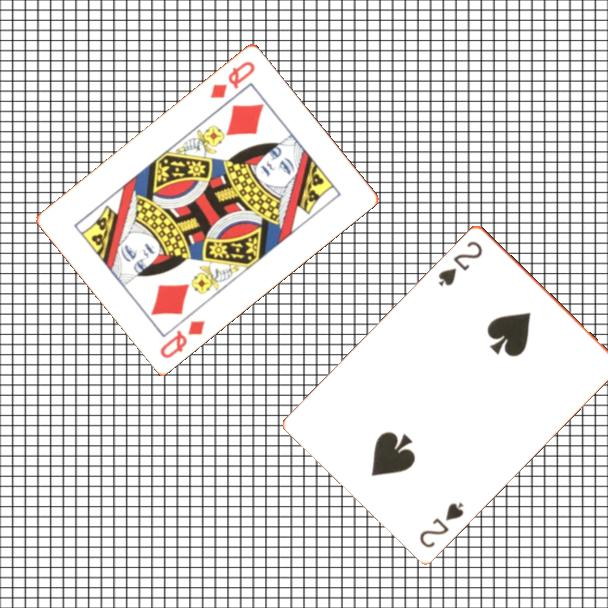d12: (156, 316, 208, 361), (206, 57, 258, 101)
s02: (416, 498, 467, 550), (435, 237, 485, 288)
